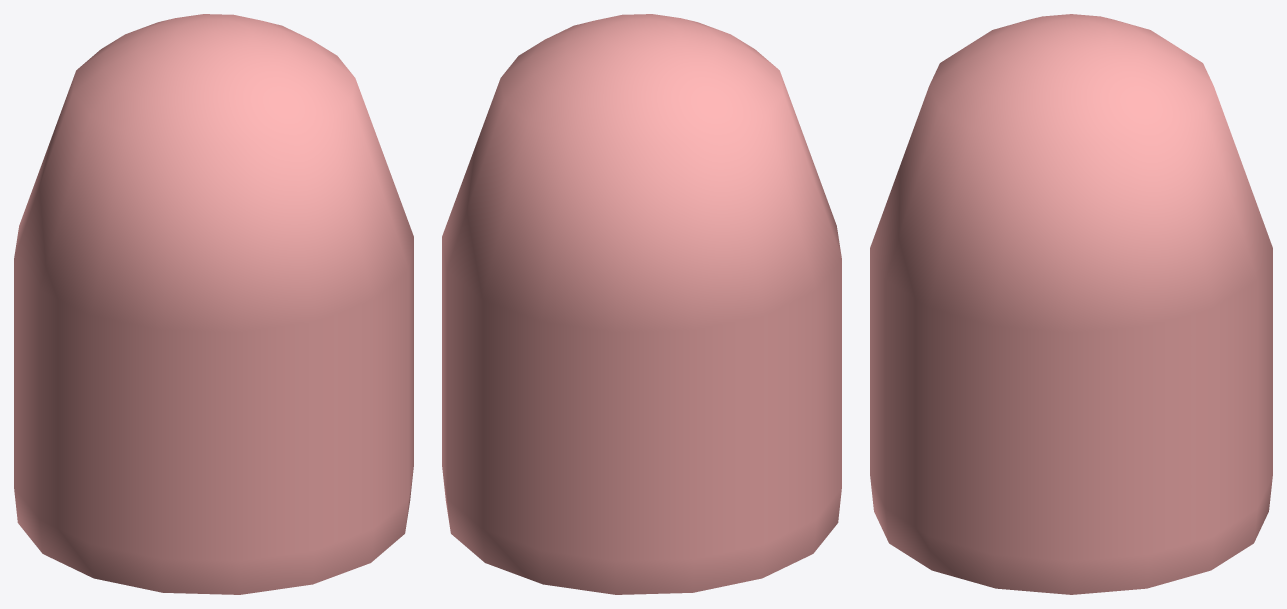
Rendered from rhinovirus.glb.
The picture shows the model from 3 angles, left to right: view 1: azimuth 30°, elevation 25°; view 2: azimuth 150°, elevation 25°; view 3: azimuth 270°, elevation 25°; orthographic projection.
Parts seen in each view (by area): view 1: rhinovirus-node; view 2: rhinovirus-node; view 3: rhinovirus-node.
Boxes of the visible parts, <box> form: rhinovirus-node: <box>14,14,413,594</box>; rhinovirus-node: <box>442,14,841,594</box>; rhinovirus-node: <box>870,14,1272,594</box>.
Bounding box in the file's own units: 1.4 × 1.84 × 1.4.
